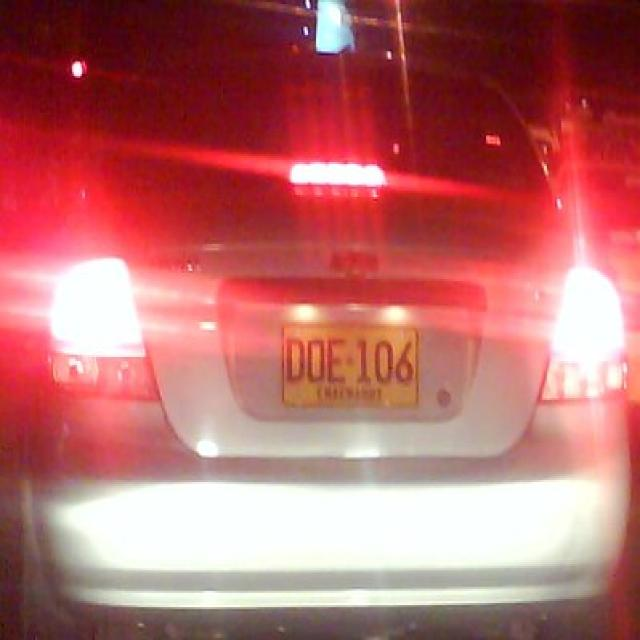placa_carro: (267, 312, 426, 416)
